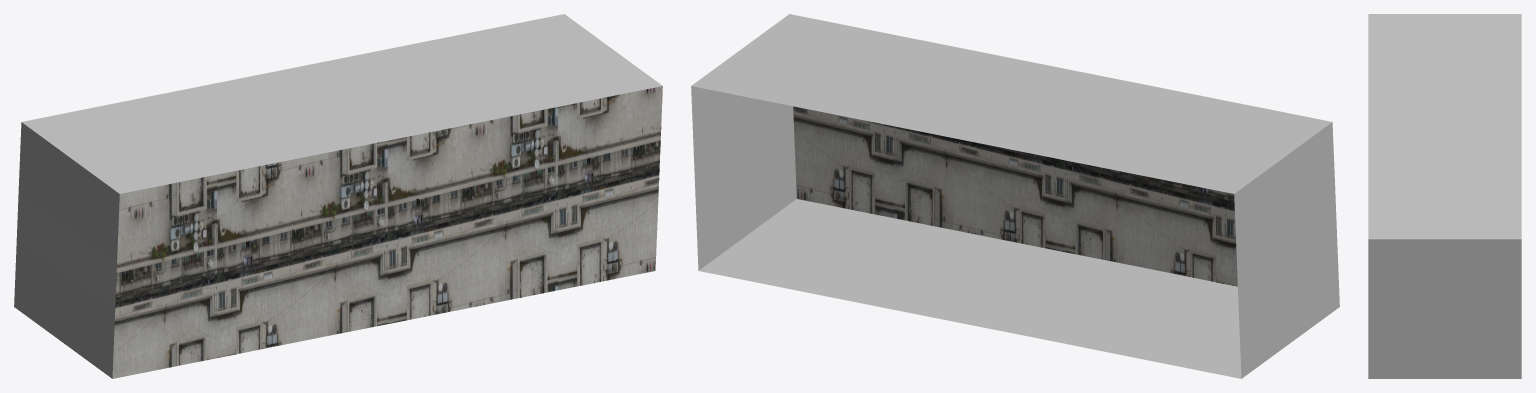
The model's file is geospecific_1290.obj.
3 renders of one model, left to right at view 1: azimuth 30°, elevation 25°; view 2: azimuth 150°, elevation 25°; view 3: azimuth 270°, elevation 25°, orthographic. The views are drawn at different scales.
Parts seen in each view (by area): view 1: Building; view 2: Building; view 3: Building.
Boxes of the visible parts, x1,y1,x2,y2 form: Building: [14, 14, 662, 378]; Building: [691, 14, 1339, 378]; Building: [1368, 14, 1521, 378].
Size of the model in its own units: 29.06 by 10.47 by 9.
